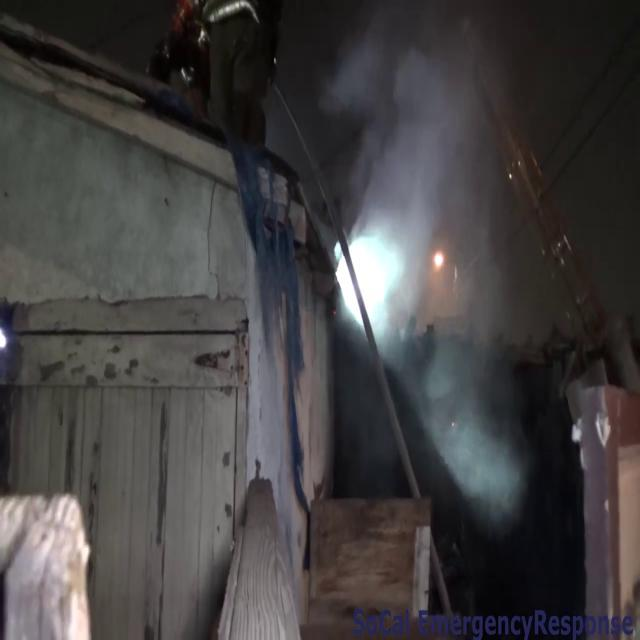Smoke: (326, 0, 542, 331), (414, 314, 525, 516)
